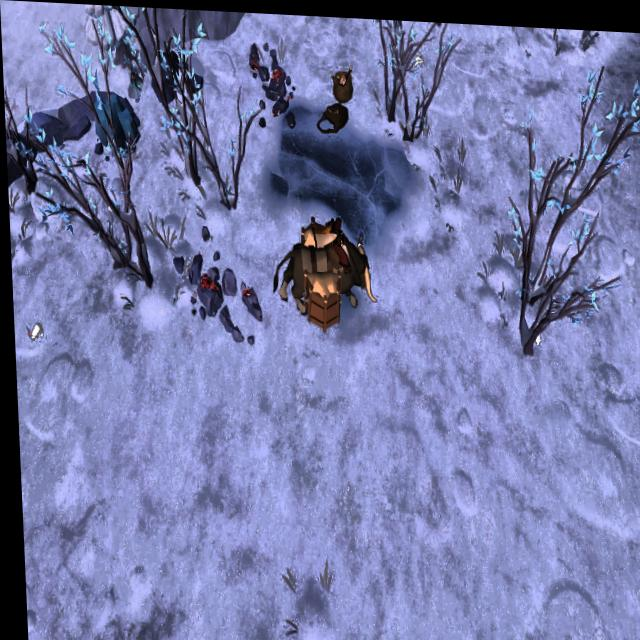rock_t4: (90, 83, 139, 154)
